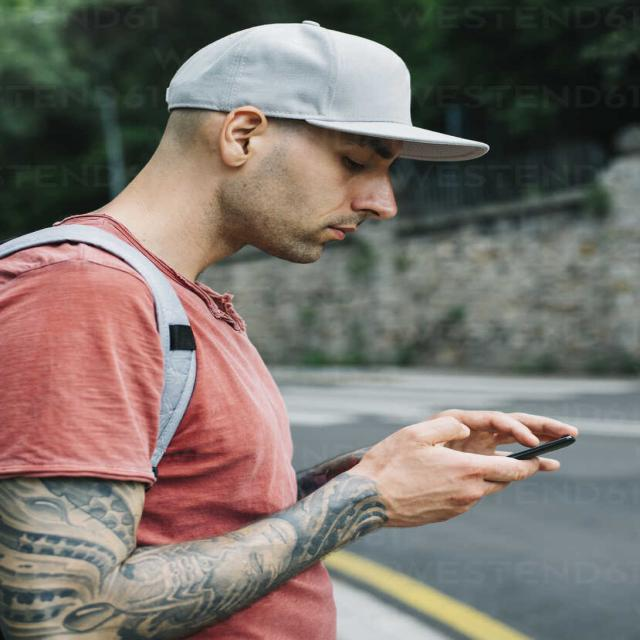3_gorra: (162, 16, 496, 163)
